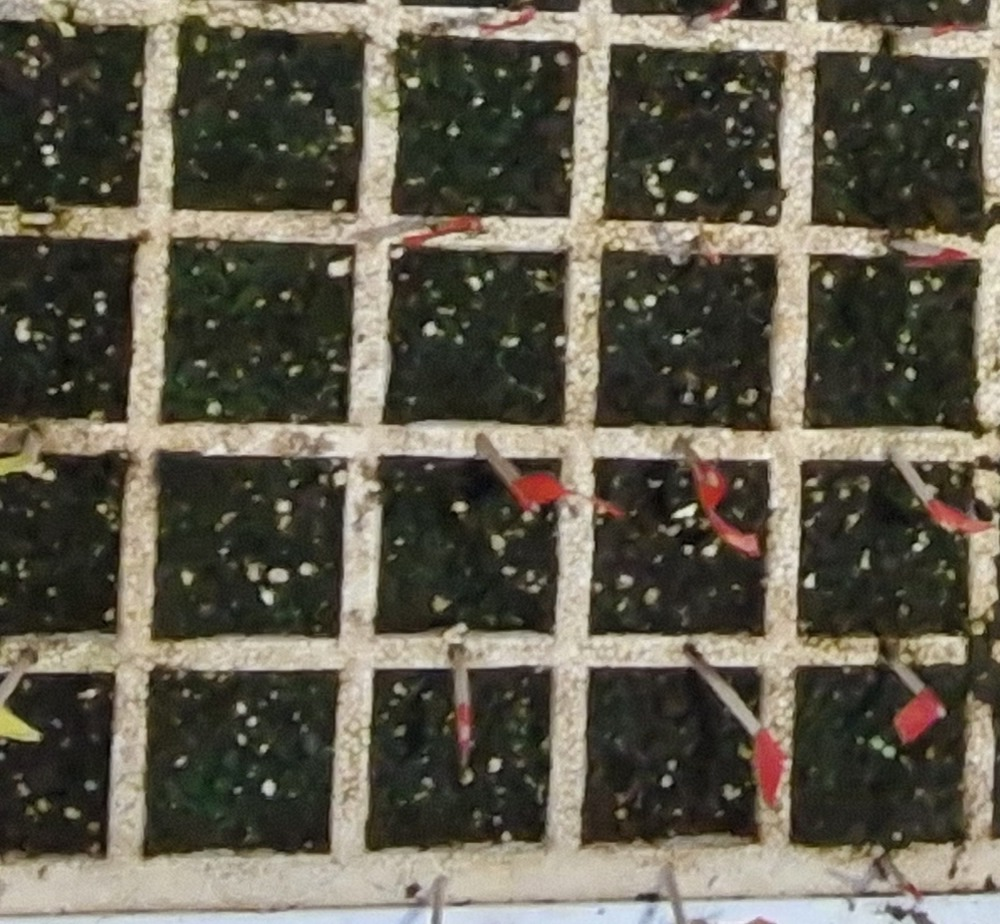Folha: (882, 745, 897, 760), (869, 736, 884, 750)
Germinacao: (869, 734, 897, 759)
